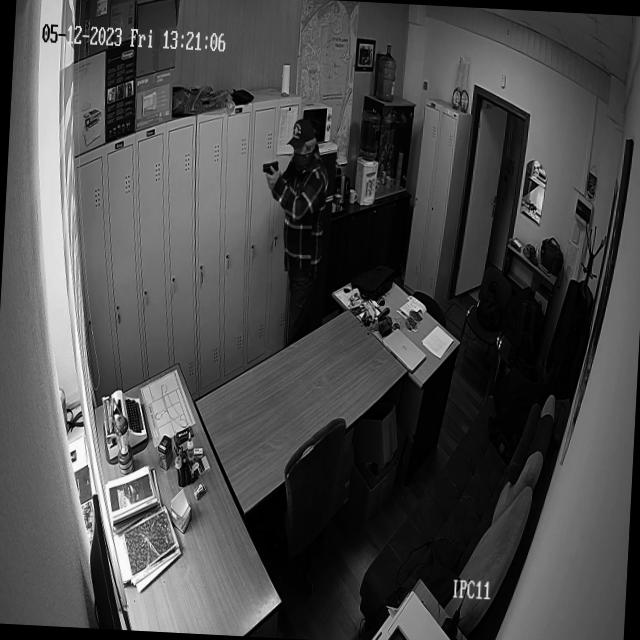gun: (259, 160, 281, 174)
person with a gun: (252, 106, 335, 360)
